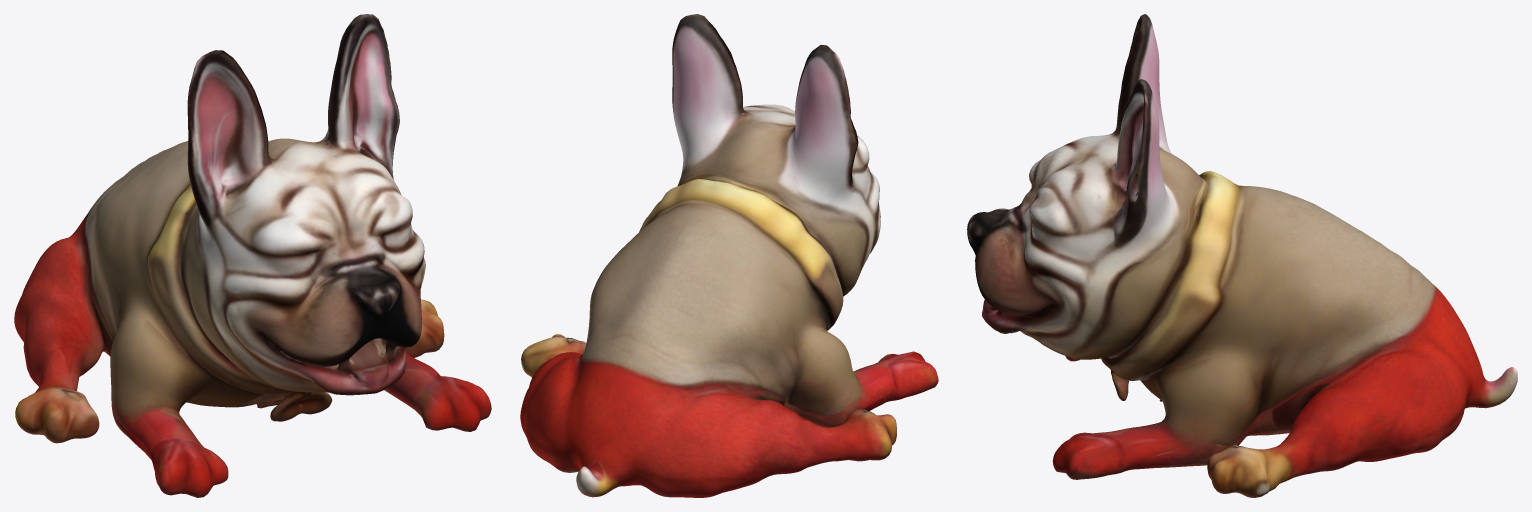
File: smug_dog.glb
3 views of the same model, side by side, from view 1: azimuth 30°, elevation 25°; view 2: azimuth 150°, elevation 25°; view 3: azimuth 270°, elevation 25° (orthographic). The views are drawn at different scales.
Parts seen in each view (by area): view 1: Object_4; view 2: Object_4; view 3: Object_4.
Boxes of the visible parts, x1,y1,x2,y2 form: Object_4: (14, 14, 491, 497); Object_4: (520, 14, 938, 497); Object_4: (967, 14, 1517, 497).
Size of the model in its own units: 1.6 by 1.46 by 2.
Materials: 1 (1 with a texture image).
